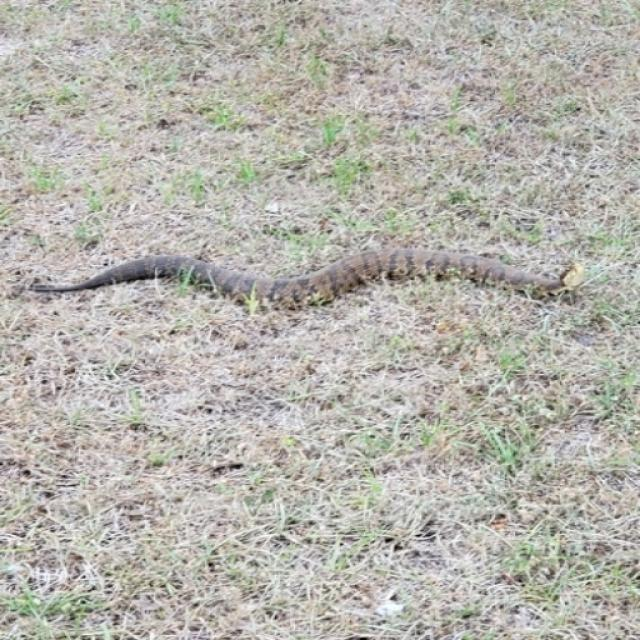snake: (20, 228, 605, 344)
